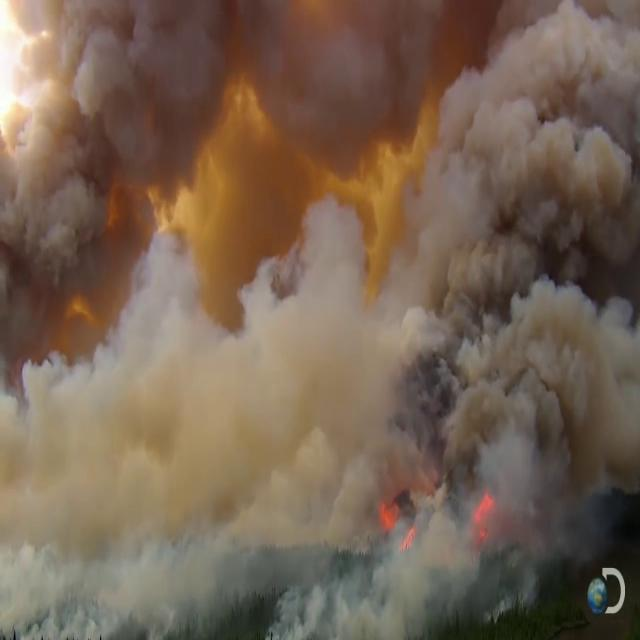Fire: (379, 476, 503, 564)
Smoke: (264, 0, 640, 459), (0, 64, 316, 601), (18, 491, 360, 640), (0, 0, 281, 144)
